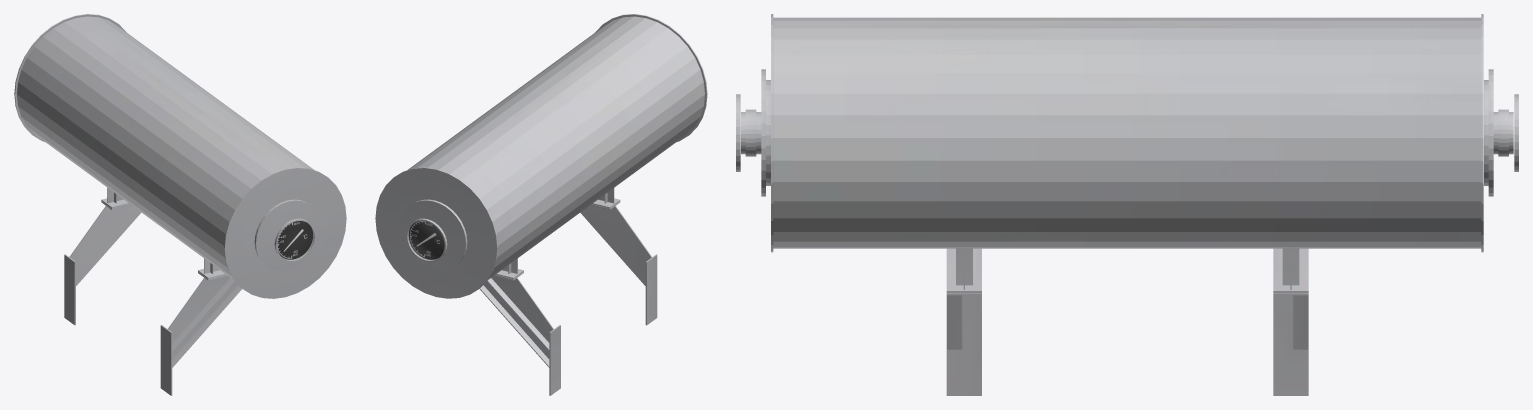
Rendered from temp1_defect.fbx.
The picture shows the model from 3 angles, left to right: view 1: azimuth 30°, elevation 25°; view 2: azimuth 150°, elevation 25°; view 3: azimuth 270°, elevation 25°; orthographic projection. The views are drawn at different scales.
Visible parts, largest first — view 1: Cylinder.064, Cylinder.031, Cylinder.013; view 2: Cylinder.064, Cylinder.001, Cylinder.002; view 3: Cylinder.064.
Boxes of the visible parts, <box> form: Cylinder.064: <box>14,14,346,395</box>; Cylinder.031: <box>274,218,315,262</box>; Cylinder.013: <box>277,221,313,260</box>; Cylinder.064: <box>375,14,707,395</box>; Cylinder.001: <box>406,218,447,262</box>; Cylinder.002: <box>408,221,444,260</box>; Cylinder.064: <box>741,14,1513,395</box>.
Size of the model in its own units: 103 by 198 by 333.
4 materials, 3 textured.
